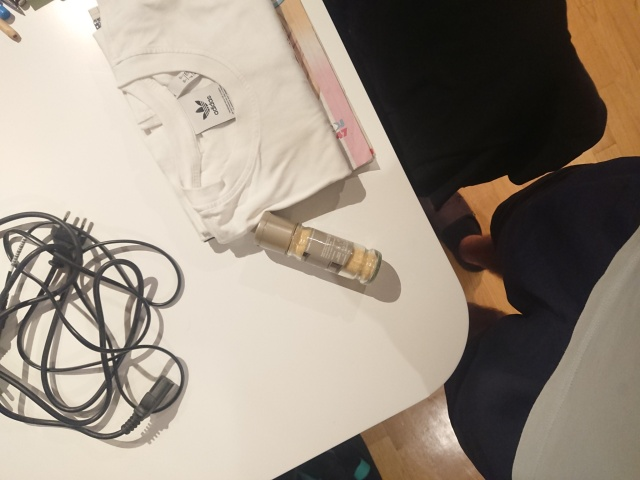Kotanyi Garlic Granules 70g: (251, 208, 384, 288)
